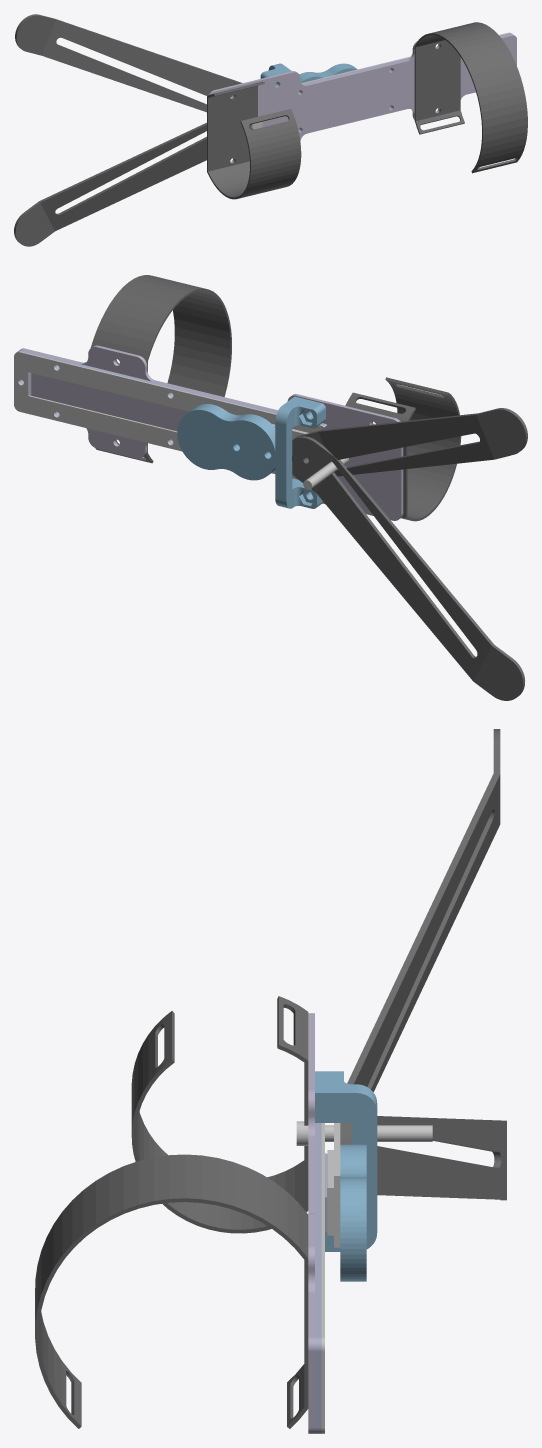
File: PassiveDorsalGrasper.glb
3 views of the same model, one above another, from view 1: azimuth 30°, elevation 25°; view 2: azimuth 150°, elevation 25°; view 3: azimuth 270°, elevation 25° (orthographic). The views are drawn at different scales.
Visible parts, largest first — view 1: 3MFMeshParent_7, 3MFMeshParent_0, 3MFMeshParent_6, 3MFMeshParent_8, 3MFMeshParent_9, 3MFMeshParent_10, 3MFMeshParent_1; view 2: 3MFMeshParent_9, 3MFMeshParent_7, 3MFMeshParent_0, 3MFMeshParent_8, 3MFMeshParent_2, 3MFMeshParent_10, 3MFMeshParent_6, 3MFMeshParent_5, 3MFMeshParent_1; view 3: 3MFMeshParent_7, 3MFMeshParent_8, 3MFMeshParent_9, 3MFMeshParent_6, 3MFMeshParent_5, 3MFMeshParent_10, 3MFMeshParent_0, 3MFMeshParent_1, 3MFMeshParent_4, 3MFMeshParent_2, 3MFMeshParent_3.
Part boxes in pixels (left/top/right/bottom): 3MFMeshParent_7: left=414, top=22, right=527, bottom=173; 3MFMeshParent_0: left=208, top=34, right=516, bottom=162; 3MFMeshParent_6: left=207, top=82, right=301, bottom=199; 3MFMeshParent_8: left=15, top=14, right=242, bottom=112; 3MFMeshParent_9: left=14, top=122, right=206, bottom=246; 3MFMeshParent_10: left=299, top=63, right=357, bottom=83; 3MFMeshParent_1: left=298, top=33, right=512, bottom=130; 3MFMeshParent_9: left=292, top=436, right=524, bottom=700; 3MFMeshParent_7: left=90, top=275, right=231, bottom=463; 3MFMeshParent_0: left=19, top=345, right=403, bottom=520; 3MFMeshParent_8: left=296, top=408, right=527, bottom=476; 3MFMeshParent_2: left=14, top=351, right=324, bottom=479; 3MFMeshParent_10: left=177, top=404, right=275, bottom=480; 3MFMeshParent_6: left=345, top=377, right=461, bottom=521; 3MFMeshParent_5: left=275, top=396, right=325, bottom=508; 3MFMeshParent_1: left=18, top=350, right=326, bottom=444; 3MFMeshParent_7: left=35, top=1154, right=308, bottom=1428; 3MFMeshParent_8: left=340, top=729, right=500, bottom=1144; 3MFMeshParent_9: left=347, top=1116, right=506, bottom=1200; 3MFMeshParent_6: left=131, top=996, right=308, bottom=1233; 3MFMeshParent_5: left=315, top=1071, right=377, bottom=1251; 3MFMeshParent_10: left=340, top=1144, right=366, bottom=1281; 3MFMeshParent_0: left=308, top=1013, right=314, bottom=1433; 3MFMeshParent_1: left=315, top=1123, right=321, bottom=1433; 3MFMeshParent_4: left=296, top=1121, right=432, bottom=1145; 3MFMeshParent_2: left=321, top=1123, right=324, bottom=1433; 3MFMeshParent_3: left=334, top=1123, right=340, bottom=1247.
Bounding box in the file's own units: 0.2528 × 0.1232 × 0.1138.
